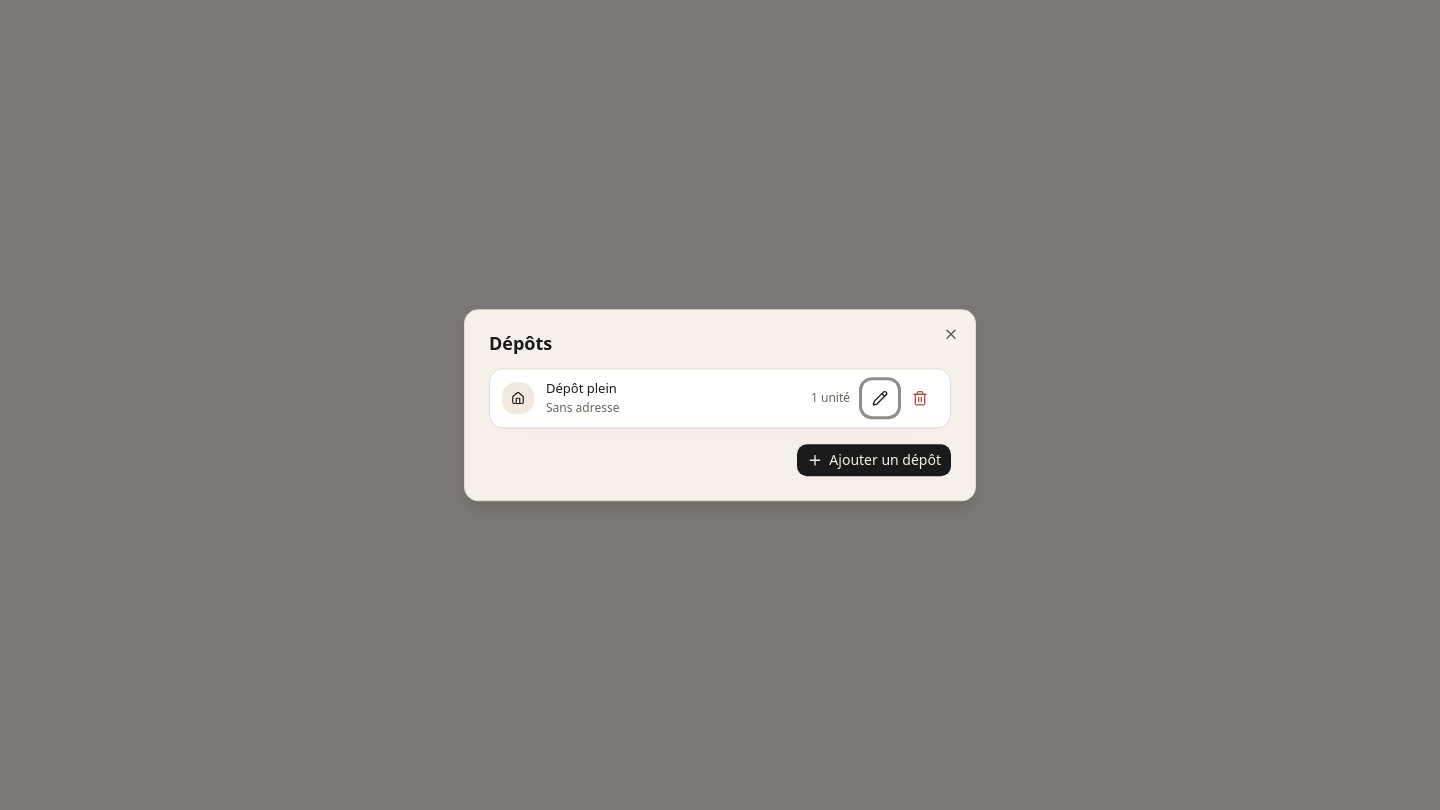
Test: WarehousesDialog error messages › reads a 409 on rename as a taken name, in French
Click the button named "Modifier le dépôt": x=880, y=398 [862,380,898,416]
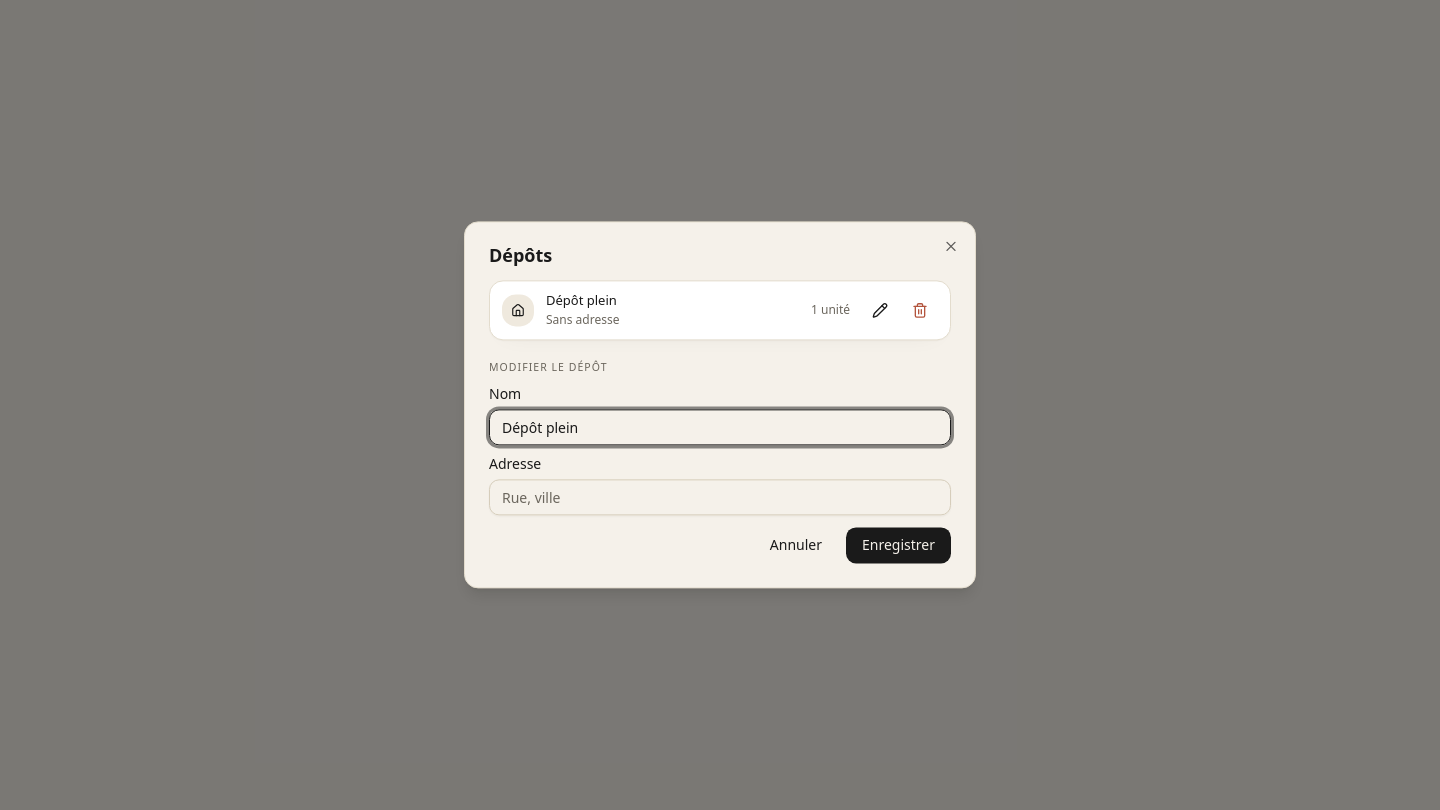
Replace the text in the field labelled "Nom" with "Autre nom": x=720, y=428 [489,410,951,446]
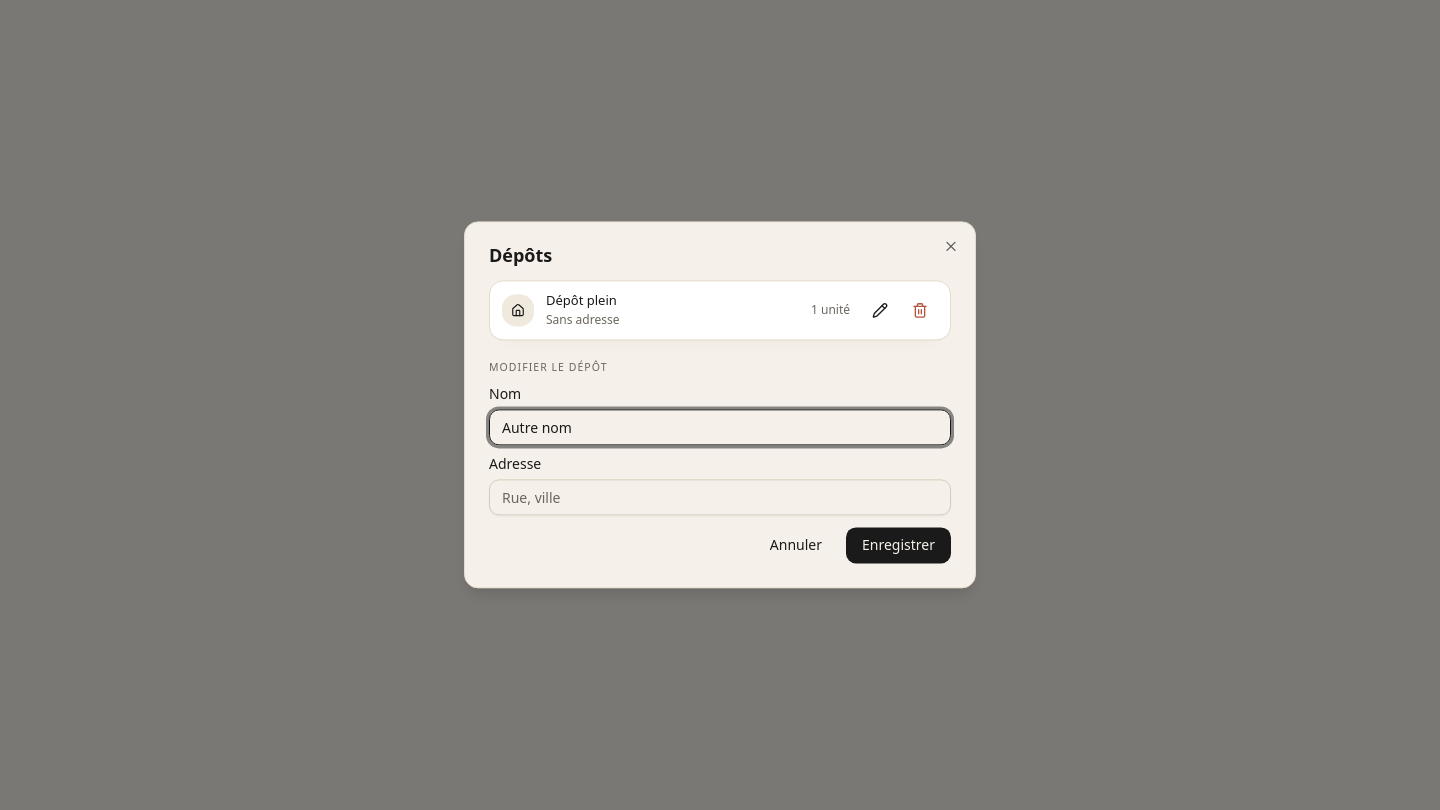
Submit the form labelled "Nom", box [489,356,951,564]
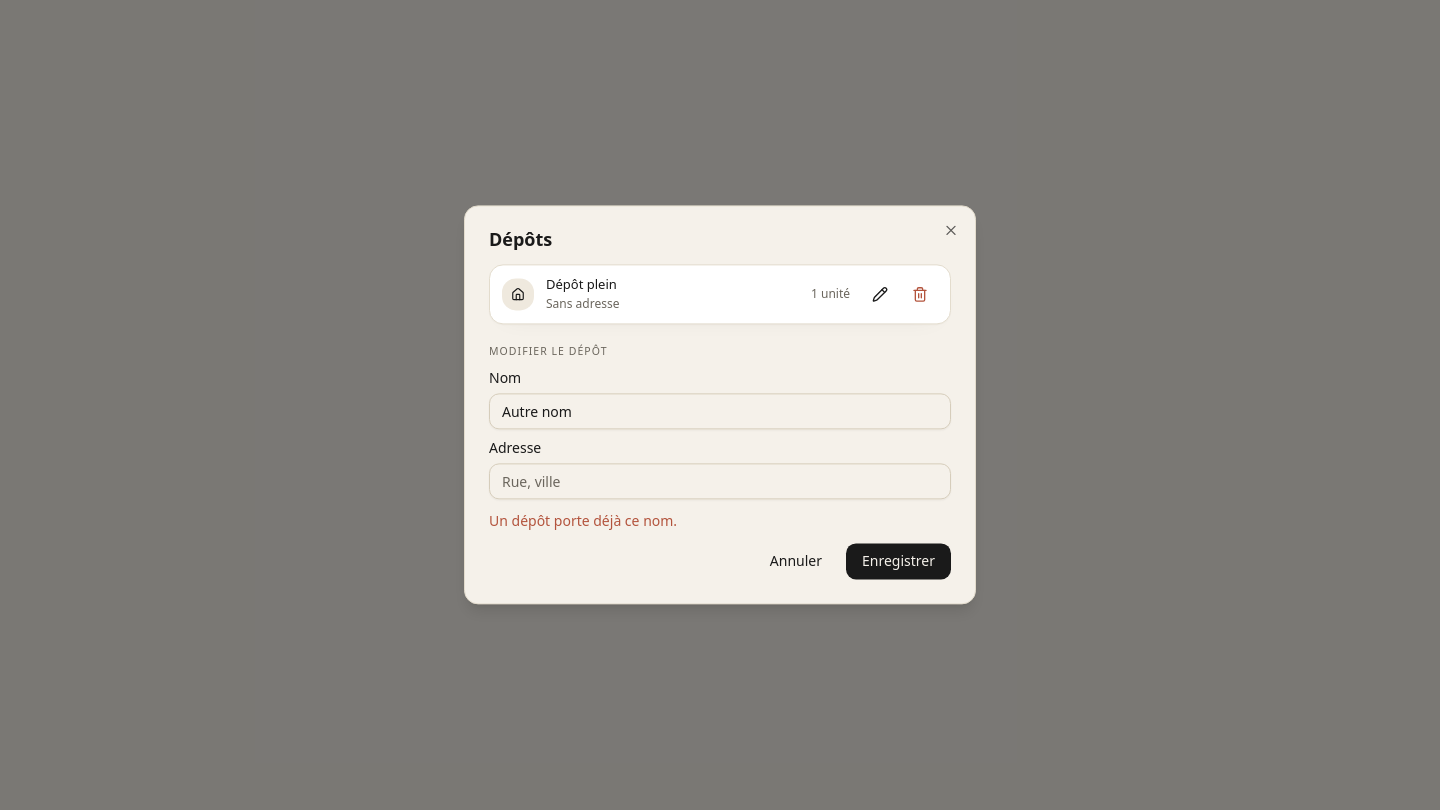
Expected: the text "Un dépôt porte déjà ce nom." is shown, [489,512,677,531]
